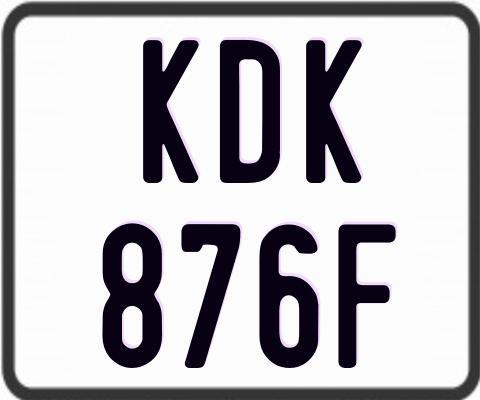6: (257, 222, 321, 372)
7: (180, 222, 240, 372)
8: (99, 221, 163, 372)
D: (220, 40, 283, 189)
F: (336, 221, 395, 371)
K: (140, 40, 201, 189), (306, 38, 365, 187)
